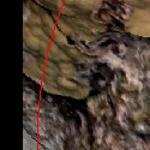alive: (24, 4, 148, 146)
